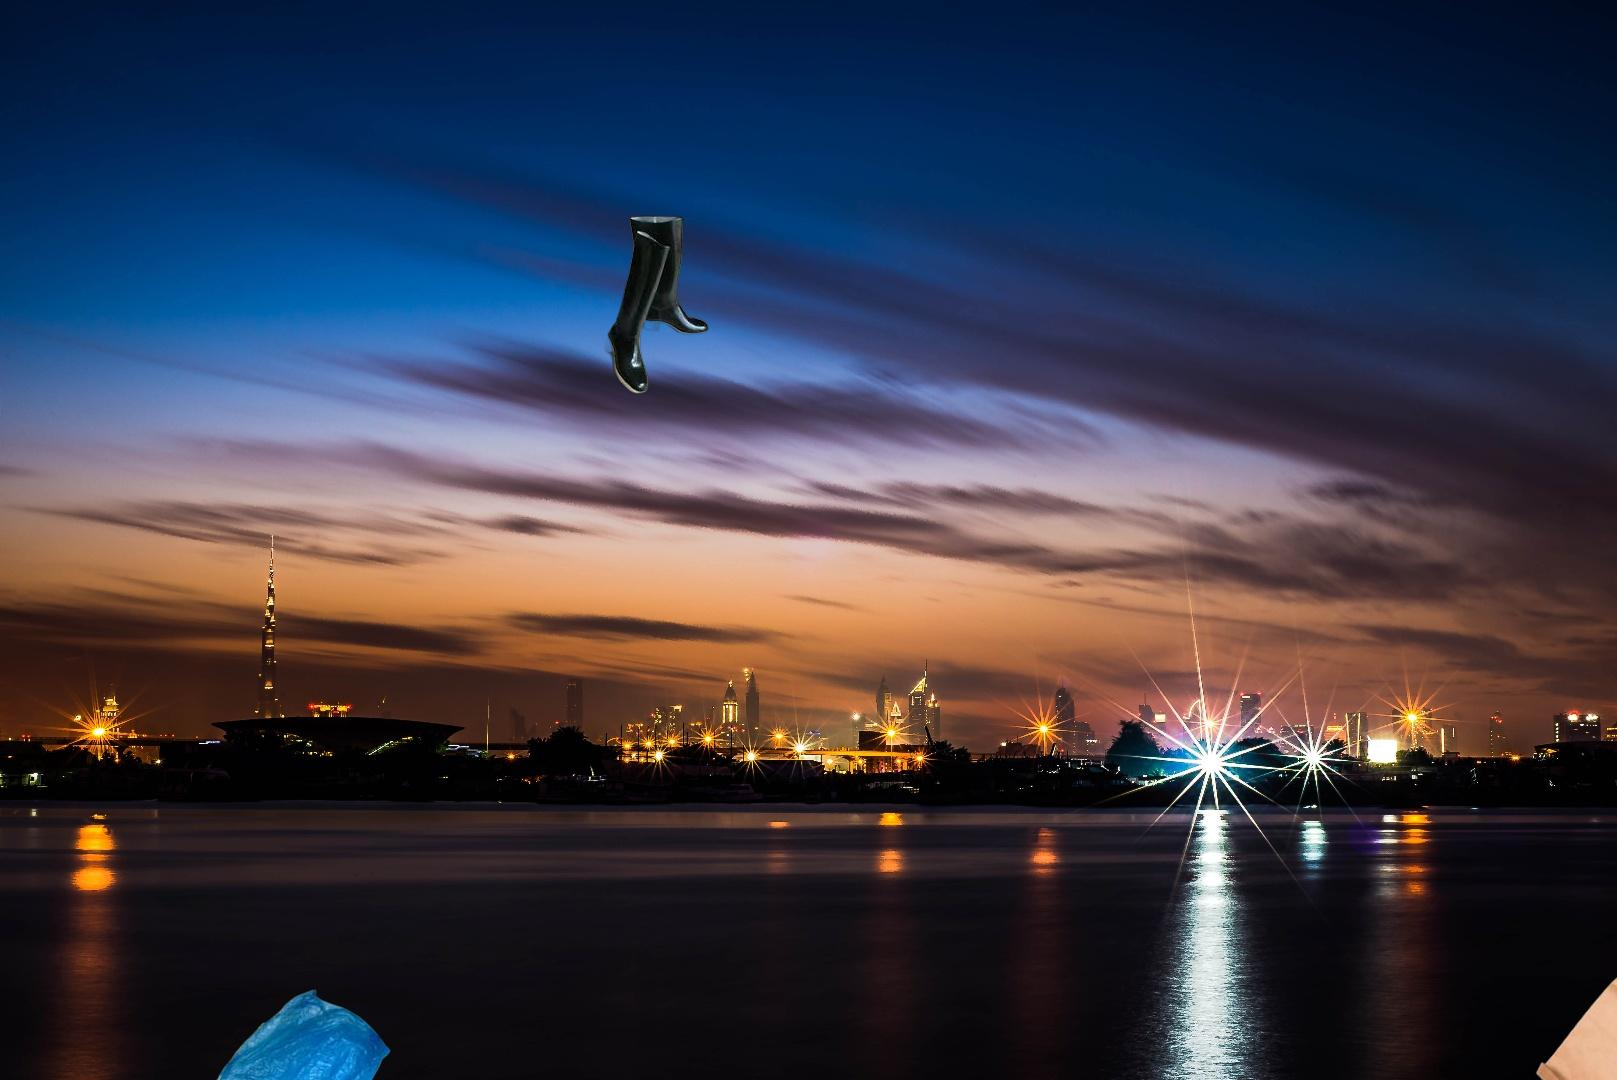paper-bag: (1531, 953, 1617, 1080)
plastic-bag: (202, 987, 394, 1080)
shoes: (602, 213, 712, 397)
